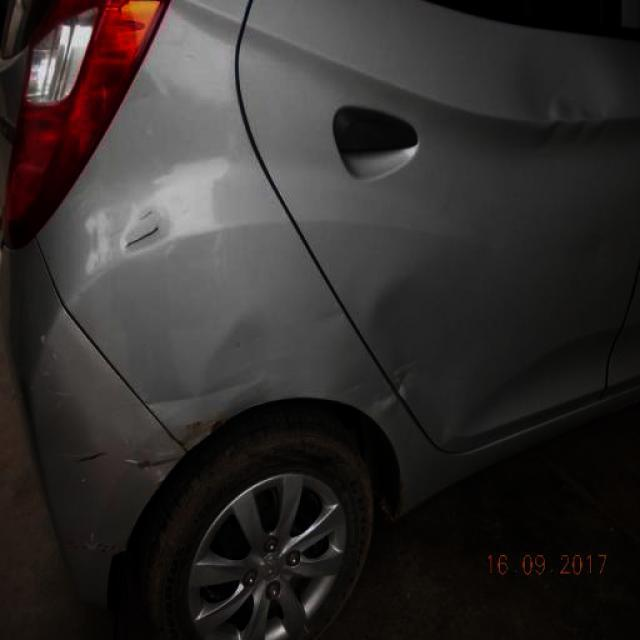car damage: (337, 350, 423, 422), (139, 378, 269, 412), (537, 103, 616, 151), (118, 207, 171, 258), (173, 414, 231, 448), (126, 448, 170, 471), (79, 447, 113, 464)
